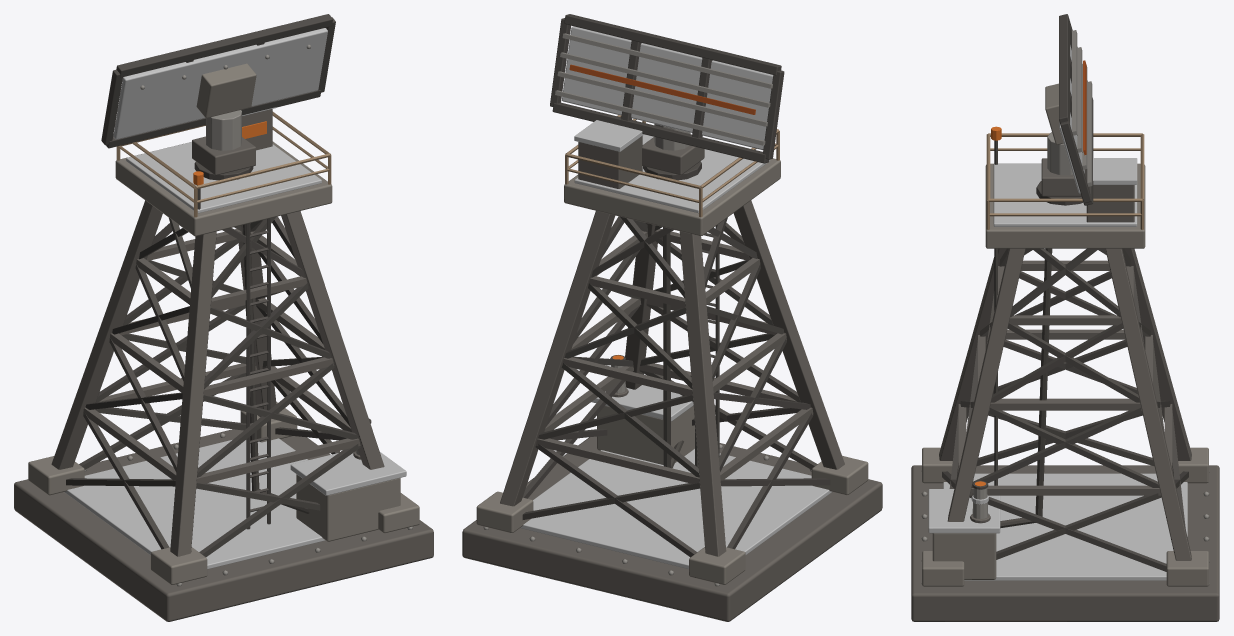
The model's file is crucible_radar_tower.glb.
3 renders of one model, left to right at view 1: azimuth 30°, elevation 25°; view 2: azimuth 150°, elevation 25°; view 3: azimuth 270°, elevation 25°, orthographic.
Visible parts, largest first — view 1: Body, Rotor_Y; view 2: Body, Rotor_Y; view 3: Body, Rotor_Y.
Part boxes in pixels (x1,y1,x2,y2): Body: (14,107,433,621); Rotor_Y: (101,14,335,175); Body: (462,115,882,621); Rotor_Y: (550,14,784,175); Body: (911,126,1219,621); Rotor_Y: (1041,14,1093,205).
Size of the model in its own units: 5.8 by 10.23 by 5.8.
